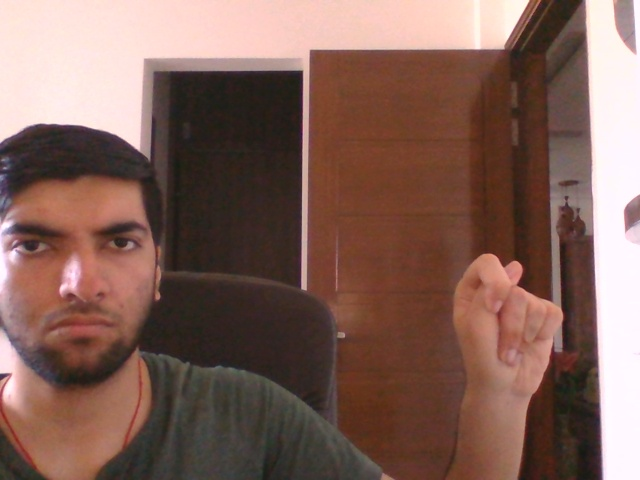LetterT: (448, 250, 564, 398)
